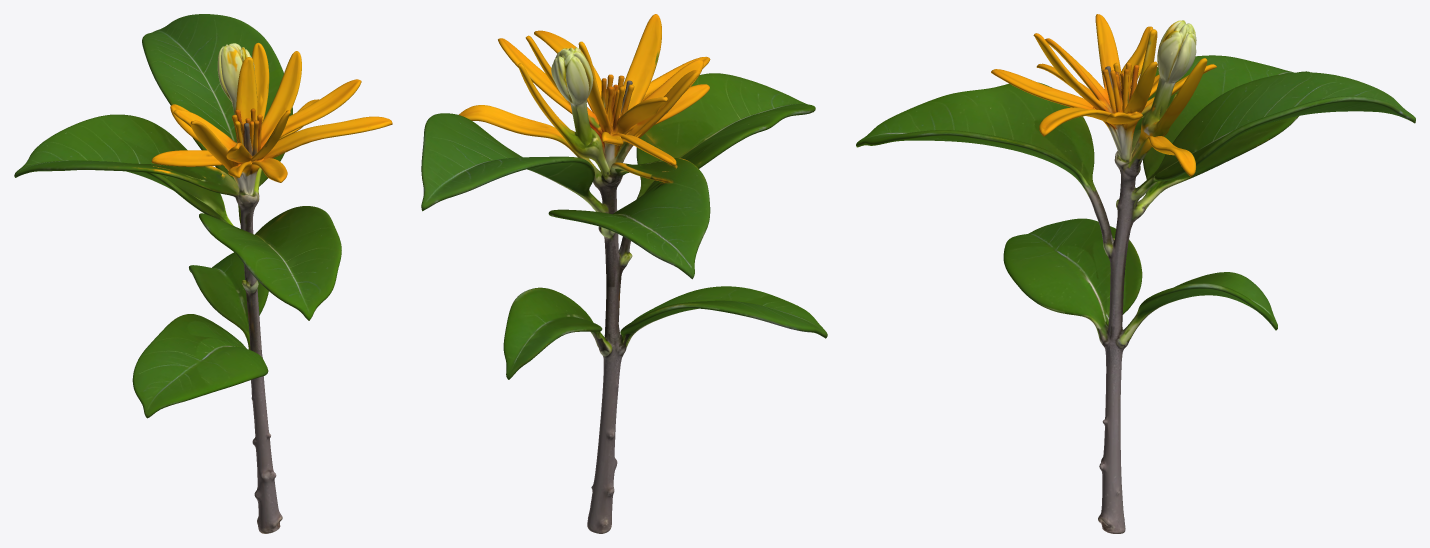
File: huanglan.glb
3 views of the same model, side by side, from view 1: azimuth 30°, elevation 25°; view 2: azimuth 150°, elevation 25°; view 3: azimuth 270°, elevation 25° (orthographic). The views are drawn at different scales.
Parts seen in each view (by area): view 1: node_0; view 2: node_0; view 3: node_0.
Part boxes in pixels (x1=…): node_0: x1=14, y1=14, x2=392, y2=533; node_0: x1=421, y1=14, x2=827, y2=533; node_0: x1=856, y1=14, x2=1415, y2=533.
Size of the model in its own units: 0.5836 by 0.9684 by 0.9677.
Materials: 1 (1 with a texture image).
